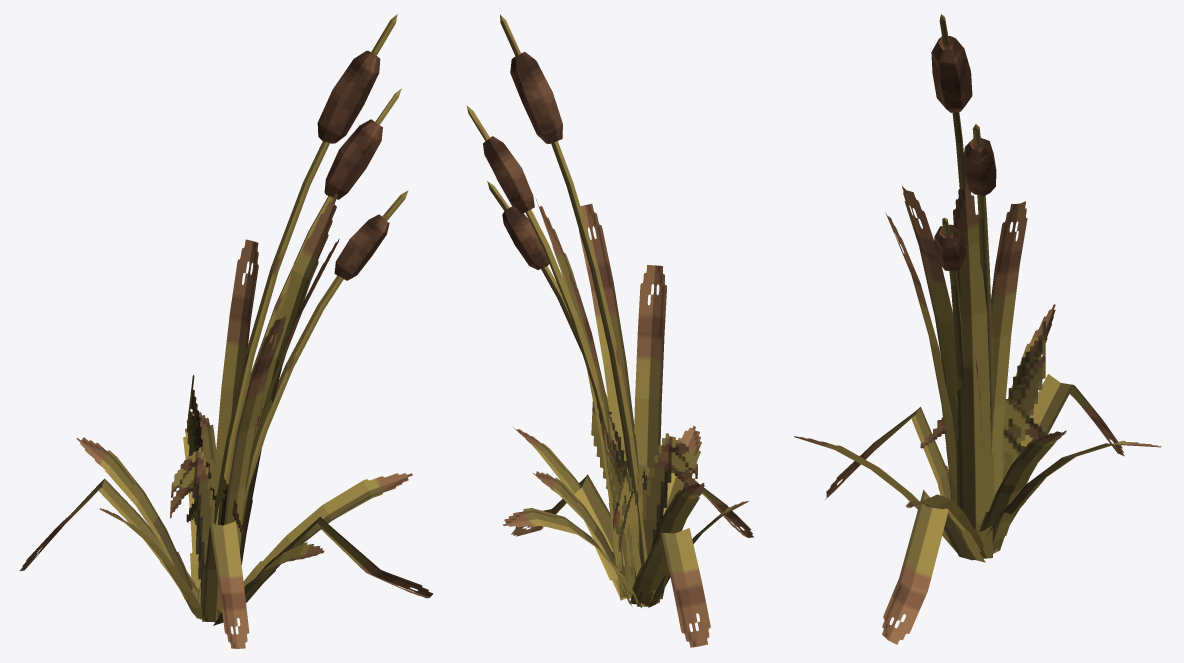
Rendered from SM_SW02_CattailTallLean.fbx.
3 renders of one model, left to right at view 1: azimuth 30°, elevation 25°; view 2: azimuth 150°, elevation 25°; view 3: azimuth 270°, elevation 25°, orthographic. The views are drawn at different scales.
Parts seen in each view (by area): view 1: SW02a_Plants, SW02a_Props; view 2: SW02a_Plants, SW02a_Props; view 3: SW02a_Plants, SW02a_Props.
Part boxes in pixels (bbox=[...]): SW02a_Plants: bbox=[19, 14, 433, 648]; SW02a_Props: bbox=[317, 50, 389, 280]; SW02a_Plants: bbox=[466, 14, 753, 647]; SW02a_Props: bbox=[483, 52, 562, 269]; SW02a_Plants: bbox=[794, 14, 1161, 644]; SW02a_Props: bbox=[931, 36, 996, 270].
Bounding box in the file's own units: 1.02 × 1.71 × 0.9356.
